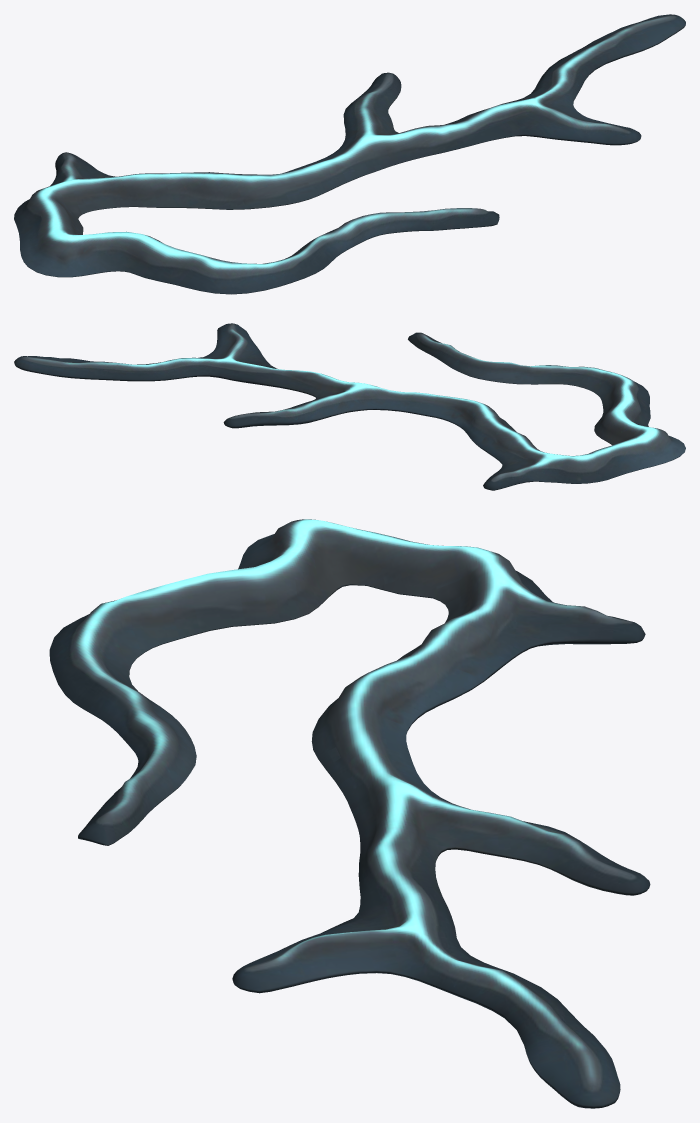
Rendered from caos_sts_chaosgrowth_02a_soma_v36.glb.
The picture shows the model from 3 angles, top to bottom: view 1: azimuth 30°, elevation 25°; view 2: azimuth 150°, elevation 25°; view 3: azimuth 270°, elevation 25°; orthographic projection. The views are drawn at different scales.
Visible parts, largest first — view 1: caos_sts_chaosgrowth_02a; view 2: caos_sts_chaosgrowth_02a; view 3: caos_sts_chaosgrowth_02a.
Boxes of the visible parts, <box> form: caos_sts_chaosgrowth_02a: <box>14,14,685,294</box>; caos_sts_chaosgrowth_02a: <box>14,323,685,490</box>; caos_sts_chaosgrowth_02a: <box>49,519,650,1108</box>.
Size of the model in its own units: 36.38 by 1.12 by 15.92.
Materials: 1 (1 with a texture image).
